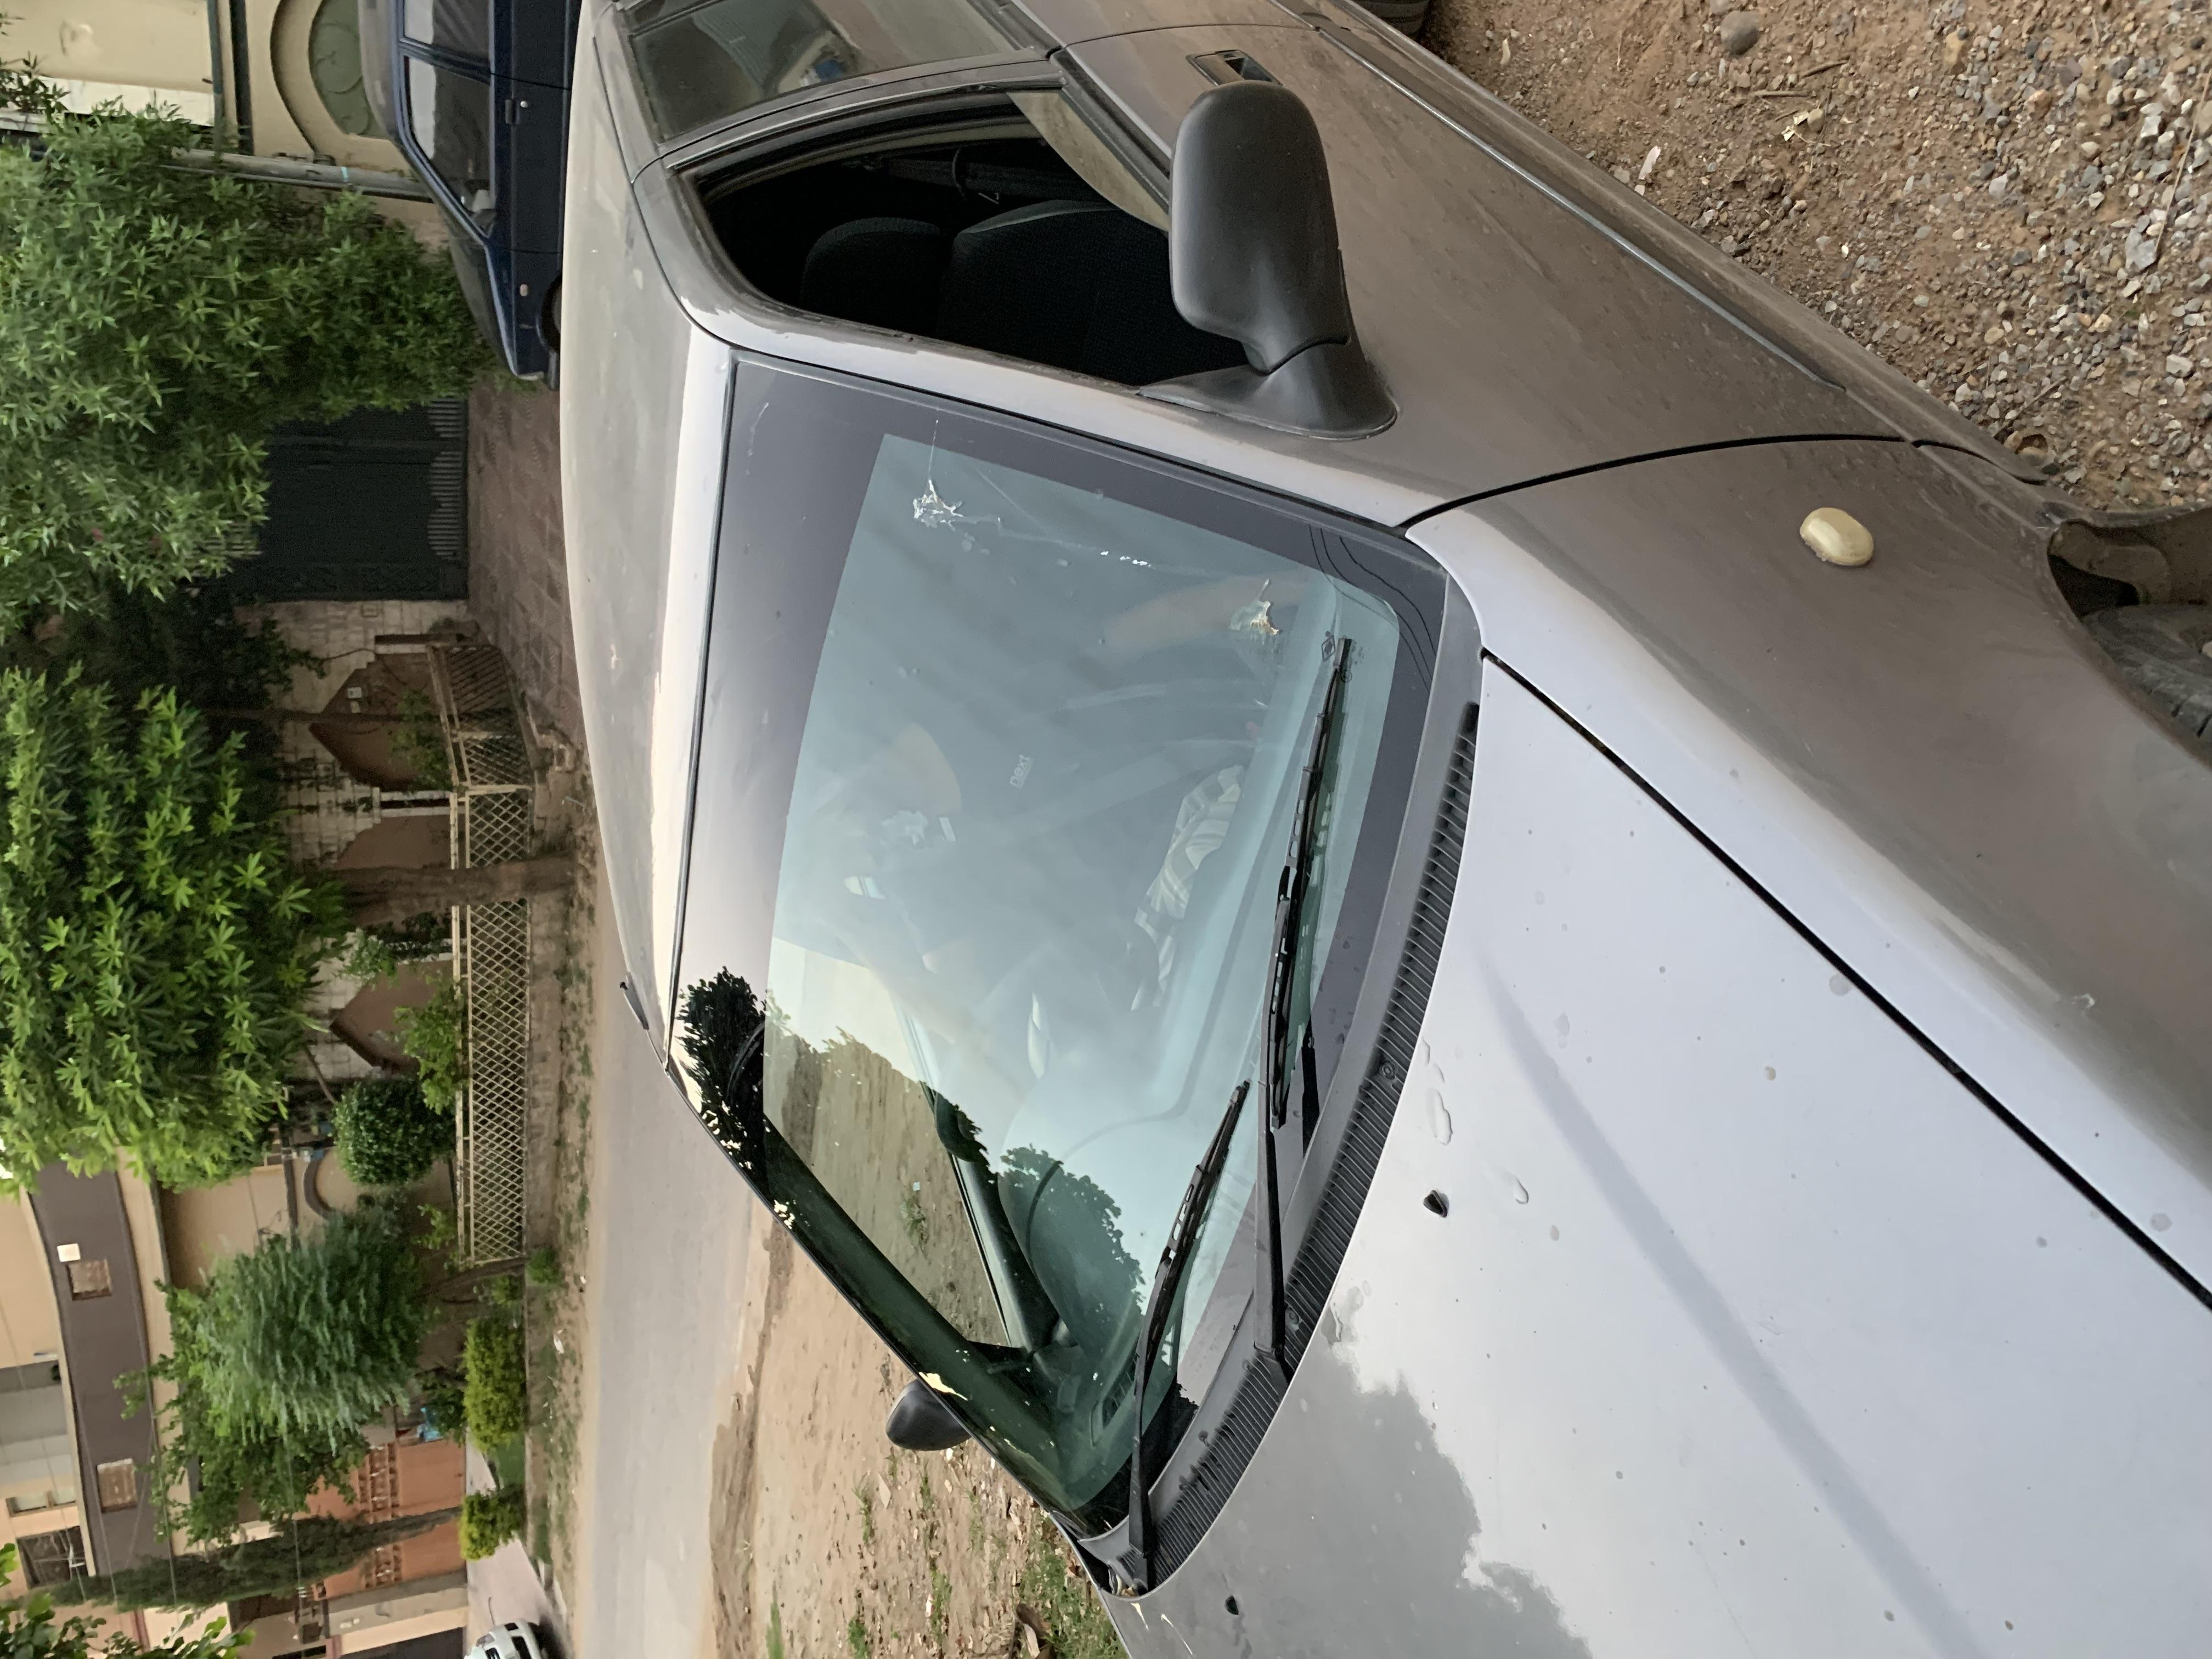windshield: (68, 493, 1742, 1107)
